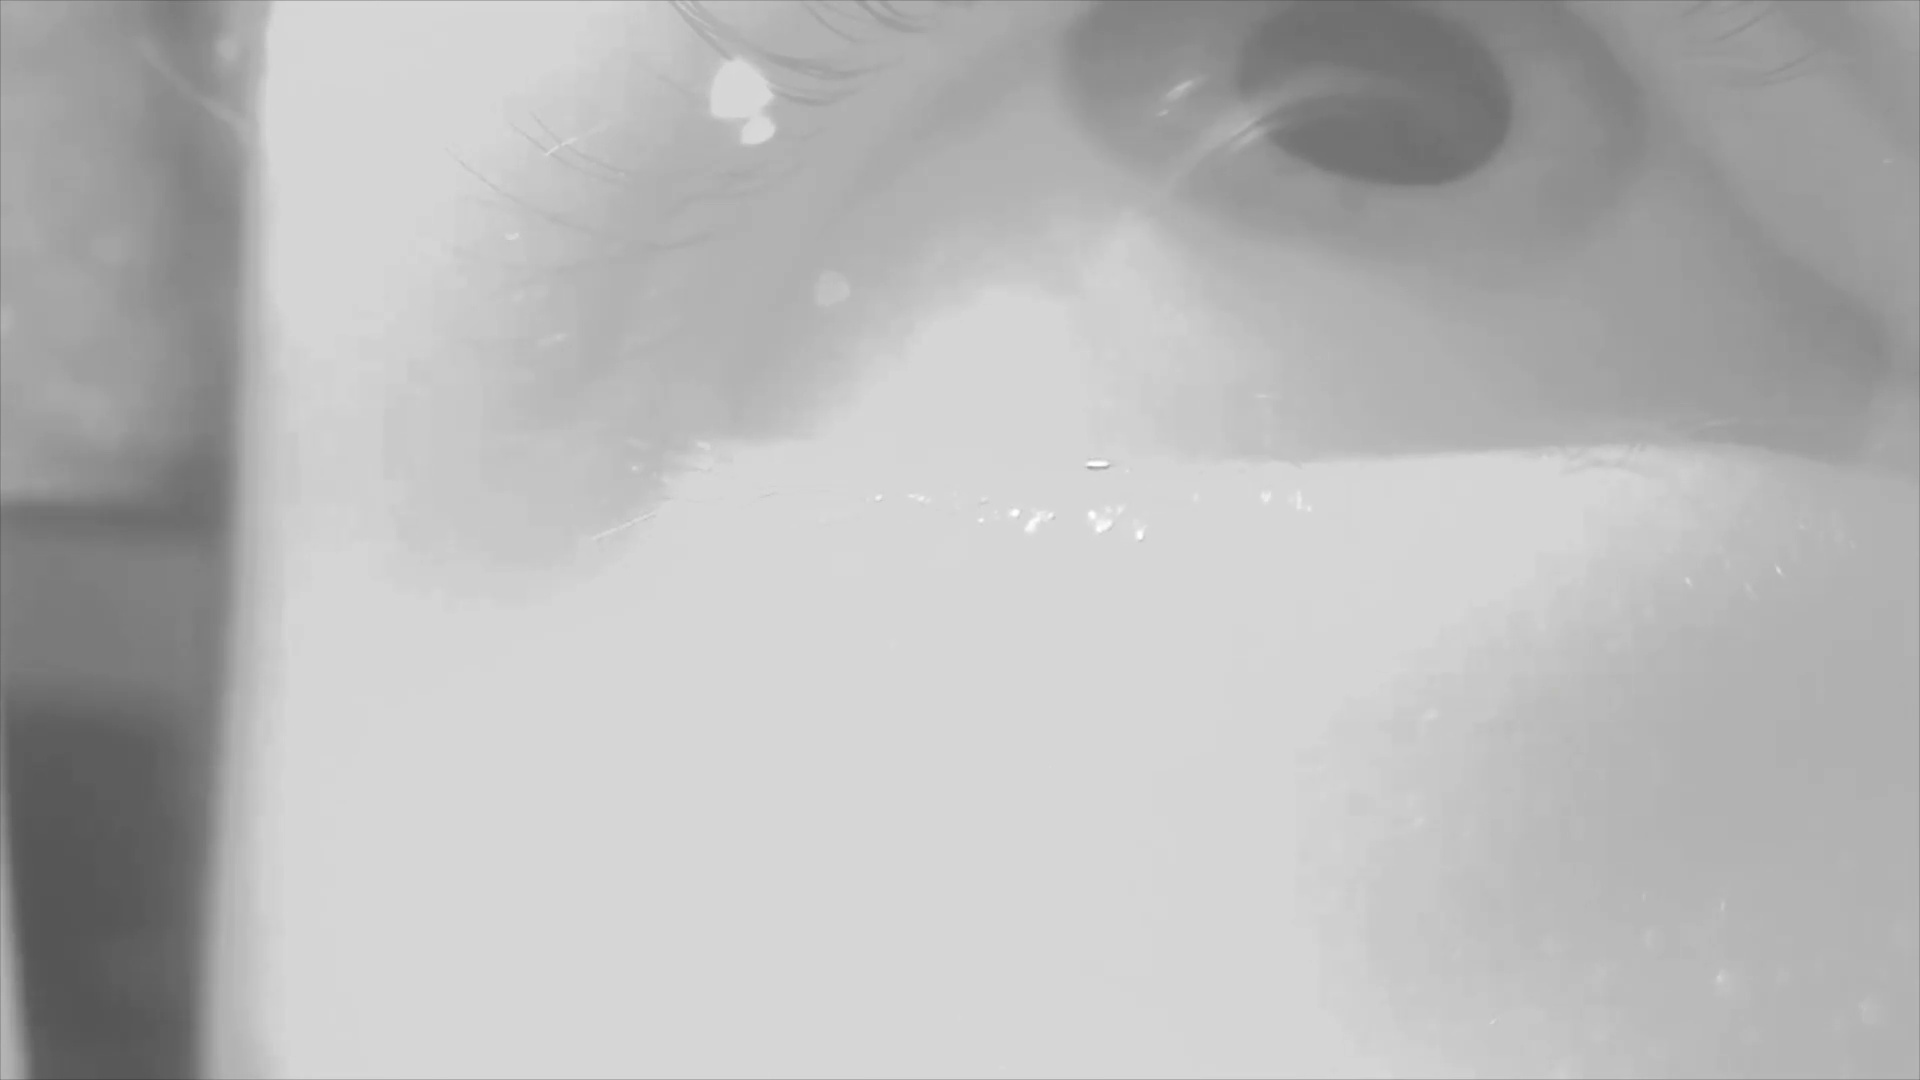pupil: (1234, 1, 1511, 183)
